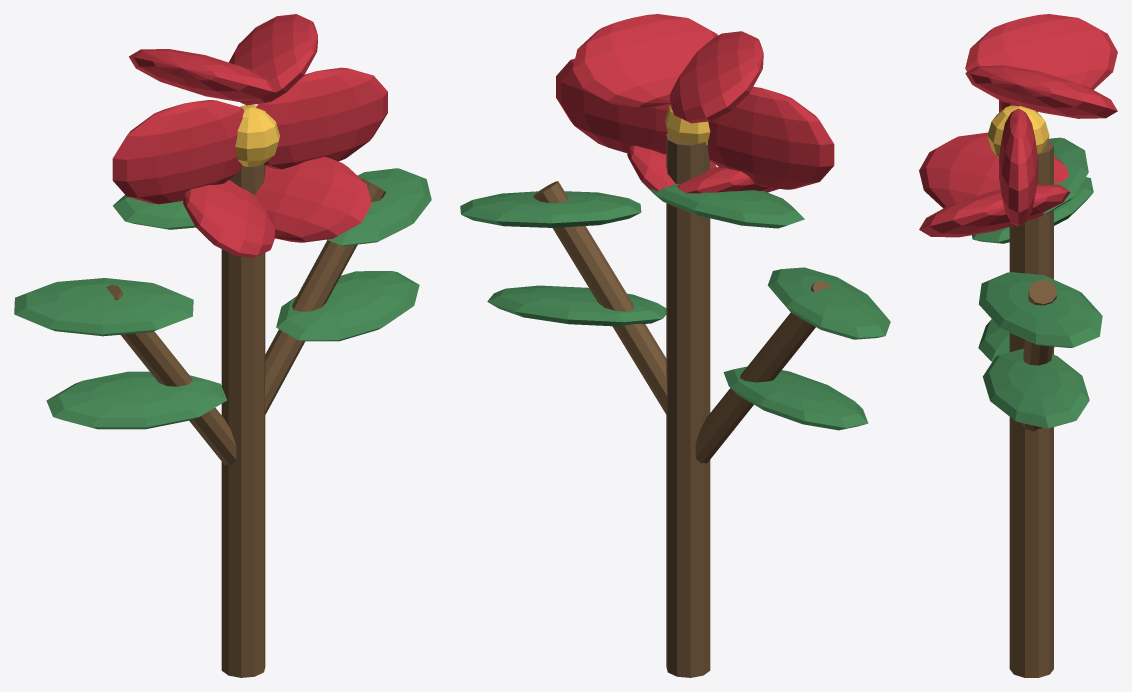
The model's file is hibiscus.glb.
3 views of the same model, side by side, from view 1: azimuth 30°, elevation 25°; view 2: azimuth 150°, elevation 25°; view 3: azimuth 270°, elevation 25° (orthographic).
Parts seen in each view (by area): view 1: Hibiscus_Stem, Hibiscus_Petal_3, Hibiscus_Petal_0, Hibiscus_Leaf_2, Hibiscus_Leaf_0, Hibiscus_Petal_5, Hibiscus_Leaf_1, Hibiscus_Petal_4, Hibiscus_Petal_2, Hibiscus_Petal_1, Hibiscus_Branch_B, Hibiscus_Leaf_3 (+3 smaller); view 2: Hibiscus_Stem, Hibiscus_Petal_3, Hibiscus_Petal_1, Hibiscus_Petal_2, Hibiscus_Branch_B, Hibiscus_Leaf_2, Hibiscus_Leaf_3, Hibiscus_Petal_0, Hibiscus_Leaf_0, Hibiscus_Leaf_1, Hibiscus_Branch_A, Hibiscus_Leaf_4 (+3 smaller); view 3: Hibiscus_Stem, Hibiscus_Petal_2, Hibiscus_Leaf_3, Hibiscus_Leaf_1, Hibiscus_Petal_1, Hibiscus_Petal_4, Hibiscus_Petal_5, Hibiscus_Petal_0, Hibiscus_Leaf_4, Hibiscus_Branch_B, Hibiscus_Flower_Center, Hibiscus_Leaf_2 (+1 smaller).
Boxes of the visible parts, <box> form: Hibiscus_Stem: <box>221,163,265,677</box>; Hibiscus_Petal_3: <box>112,100,244,204</box>; Hibiscus_Petal_0: <box>256,67,387,169</box>; Hibiscus_Leaf_2: <box>14,278,193,336</box>; Hibiscus_Leaf_0: <box>46,371,227,429</box>; Hibiscus_Petal_5: <box>255,156,371,242</box>; Hibiscus_Leaf_1: <box>276,271,419,341</box>; Hibiscus_Petal_4: <box>183,180,275,257</box>; Hibiscus_Petal_2: <box>129,49,282,101</box>; Hibiscus_Petal_1: <box>229,14,317,105</box>; Hibiscus_Branch_B: <box>264,178,385,414</box>; Hibiscus_Leaf_3: <box>327,168,431,245</box>; Hibiscus_Stem: <box>666,133,710,677</box>; Hibiscus_Petal_3: <box>707,86,834,189</box>; Hibiscus_Petal_1: <box>572,14,717,108</box>; Hibiscus_Petal_2: <box>670,31,763,123</box>; Hibiscus_Branch_B: <box>533,181,667,414</box>; Hibiscus_Leaf_2: <box>767,267,890,339</box>; Hibiscus_Leaf_3: <box>460,191,641,227</box>; Hibiscus_Petal_0: <box>556,58,670,154</box>; Hibiscus_Leaf_0: <box>723,366,868,430</box>; Hibiscus_Leaf_1: <box>487,285,666,326</box>; Hibiscus_Branch_A: <box>695,281,831,463</box>; Hibiscus_Leaf_4: <box>641,181,804,228</box>; Hibiscus_Stem: <box>1009,139,1053,677</box>; Hibiscus_Petal_2: <box>965,14,1117,103</box>; Hibiscus_Leaf_3: <box>979,272,1102,347</box>; Hibiscus_Leaf_1: <box>982,348,1089,428</box>; Hibiscus_Petal_1: <box>965,65,1117,118</box>; Hibiscus_Petal_4: <box>919,132,1068,215</box>; Hibiscus_Petal_5: <box>919,184,1070,237</box>; Hibiscus_Petal_0: <box>999,108,1037,226</box>; Hibiscus_Leaf_4: <box>1042,137,1088,214</box>; Hibiscus_Branch_B: <box>1021,279,1056,431</box>; Hibiscus_Flower_Center: <box>987,105,1049,157</box>; Hibiscus_Leaf_2: <box>972,177,1093,243</box>.
Size of the model in its own units: 2.15 by 3.09 by 0.8958.
